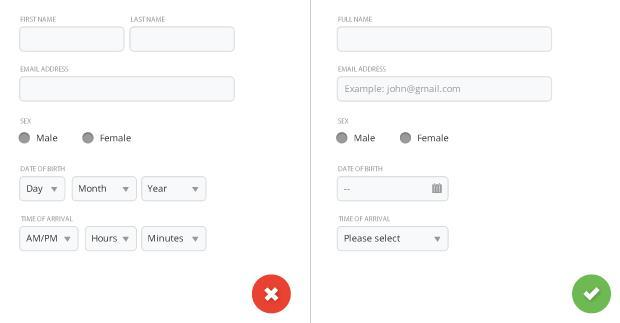dropdown: (338, 228, 449, 252), (73, 178, 138, 202), (143, 228, 207, 252), (142, 178, 207, 200), (20, 228, 80, 251), (86, 228, 138, 252), (20, 178, 66, 202)
input: (339, 78, 553, 103), (21, 78, 235, 102), (339, 28, 552, 52), (338, 178, 449, 201), (131, 28, 236, 52), (21, 28, 125, 52)
label: (20, 211, 78, 224), (338, 63, 393, 75), (19, 63, 72, 75), (336, 214, 392, 225), (336, 163, 387, 174), (18, 14, 63, 25), (337, 14, 376, 26), (126, 13, 168, 24), (18, 164, 70, 172), (100, 133, 134, 145), (417, 133, 451, 145), (338, 115, 358, 128), (36, 133, 59, 143), (354, 135, 377, 144), (19, 117, 36, 127)
radio: (82, 132, 97, 144), (336, 132, 349, 144), (400, 132, 412, 145), (19, 133, 33, 144)
